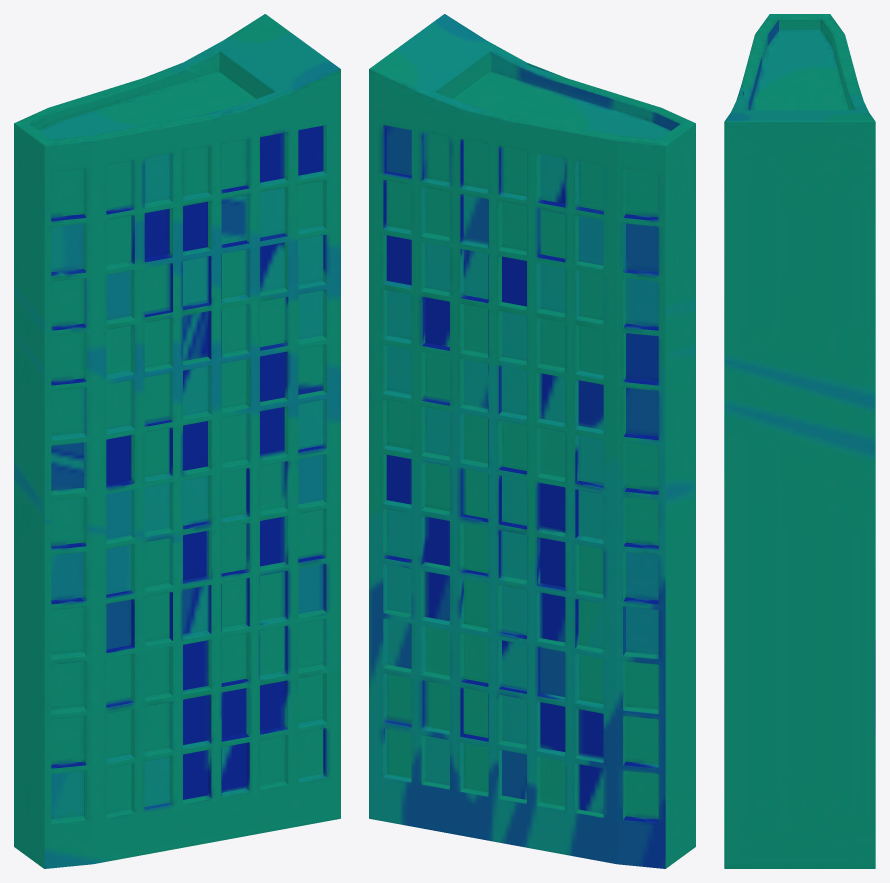
The picture shows the model from 3 angles, left to right: view 1: azimuth 30°, elevation 25°; view 2: azimuth 150°, elevation 25°; view 3: azimuth 270°, elevation 25°; orthographic projection.
Visible parts, largest first — view 1: %h2%_Baked; view 2: %h2%_Baked; view 3: %h2%_Baked.
Boxes of the visible parts, box(x1,y1,x2,y2) form: %h2%_Baked: box(14, 14, 340, 868); %h2%_Baked: box(369, 14, 695, 868); %h2%_Baked: box(724, 14, 875, 868).
Bounding box in the file's own units: 31.81 × 83 × 15.19.
1 material, 1 textured.
